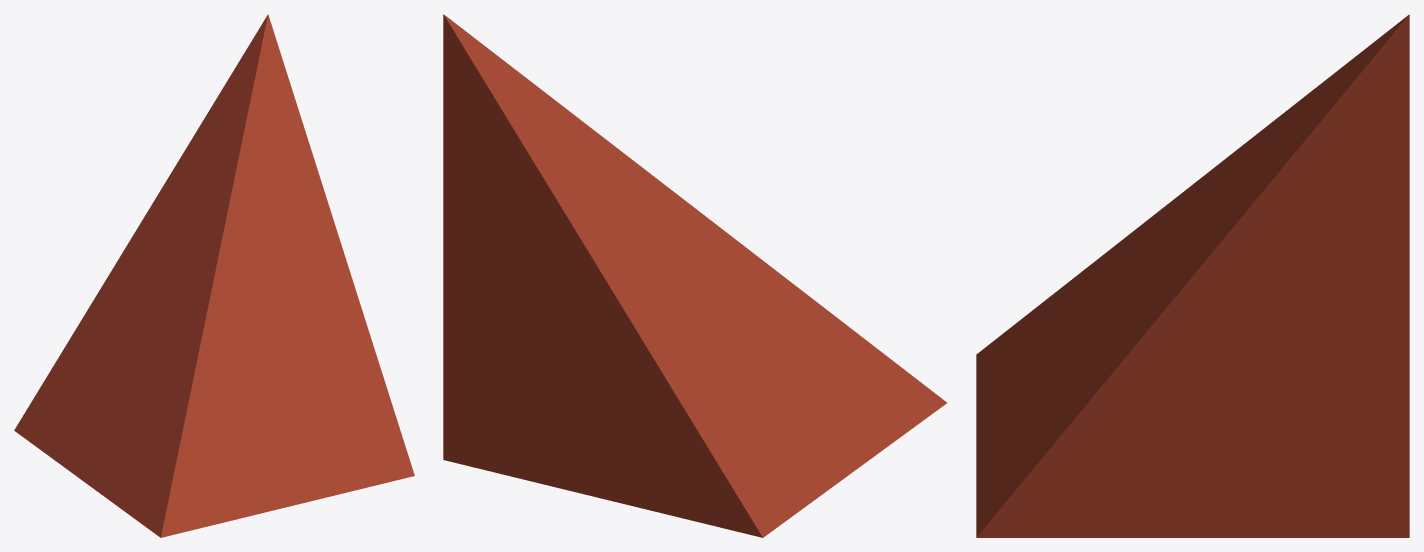
Rendered from Dach_Naroznik_Gora.fbx.
The picture shows the model from 3 angles, left to right: view 1: azimuth 30°, elevation 25°; view 2: azimuth 150°, elevation 25°; view 3: azimuth 270°, elevation 25°; orthographic projection. The views are drawn at different scales.
Parts seen in each view (by area): view 1: Dach_Naroznik_Gora; view 2: Dach_Naroznik_Gora; view 3: Dach_Naroznik_Gora.
Part boxes in pixels (box(x1,y1,x2,y2)): Dach_Naroznik_Gora: box(14, 14, 414, 537); Dach_Naroznik_Gora: box(443, 14, 946, 537); Dach_Naroznik_Gora: box(976, 14, 1409, 537).
Bounding box in the file's own units: 0.75 × 1 × 0.75.
